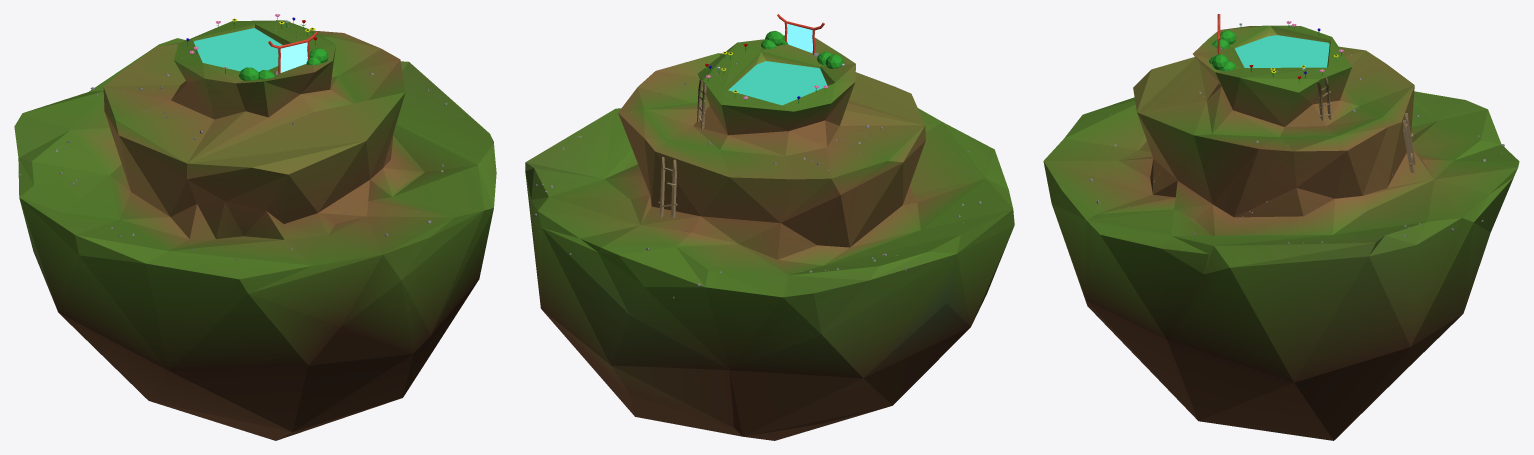
3 renders of one model, left to right at view 1: azimuth 30°, elevation 25°; view 2: azimuth 150°, elevation 25°; view 3: azimuth 270°, elevation 25°, orthographic. The views are drawn at different scales.
Parts seen in each view (by area): view 1: Island.002, Water.002, Magical Portal.002; view 2: Island.002, Water.002, Bottom Ladder.002, Magical Portal.002; view 3: Island.002, Water.002.
Boxes of the visible parts, x1,y1,x2,y2 form: Island.002: (14,20,496,440); Water.002: (194,28,282,72); Magical Portal.002: (280,42,307,72); Island.002: (525,37,1014,440); Water.002: (728,61,827,105); Bottom Ladder.002: (659,157,677,218); Magical Portal.002: (787,23,812,53); Island.002: (1043,25,1519,440); Water.002: (1235,35,1329,67).
Bounding box in the file's own units: 41.96 × 39.87 × 43.73.
